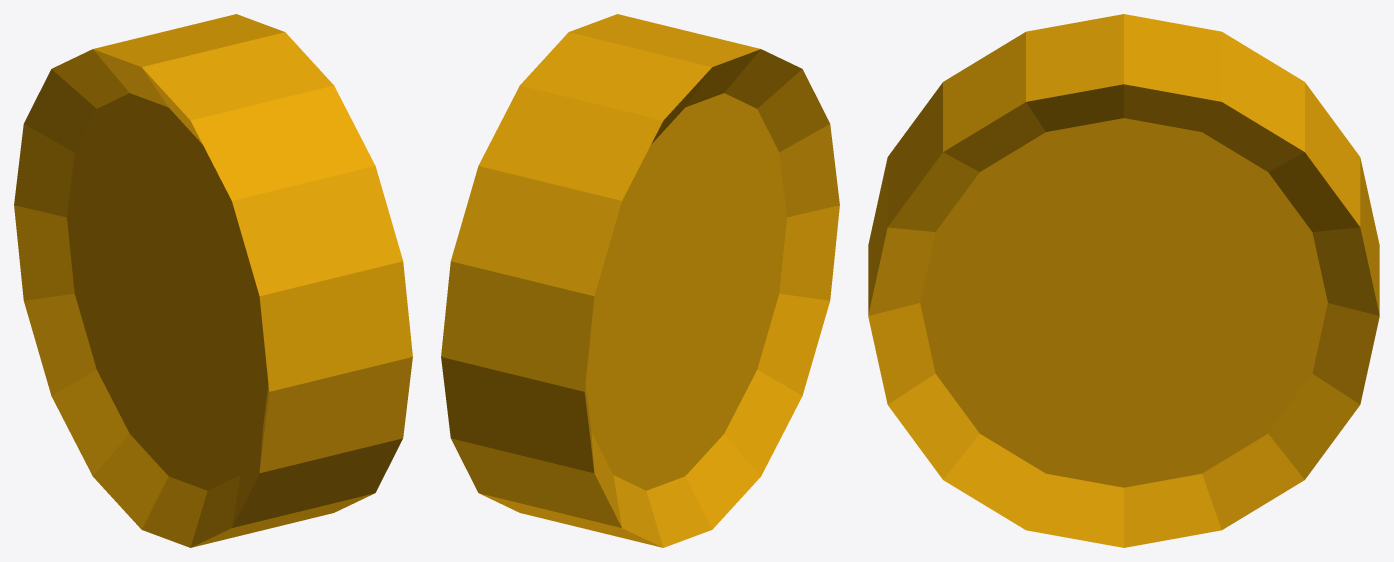
File: coin.gltf
3 renders of one model, left to right at view 1: azimuth 30°, elevation 25°; view 2: azimuth 150°, elevation 25°; view 3: azimuth 270°, elevation 25°, orthographic.
Visible parts, largest first — view 1: Circle; view 2: Circle; view 3: Circle.
Part boxes in pixels (x1=…): Circle: x1=14, y1=14, x2=412, y2=547; Circle: x1=441, y1=14, x2=839, y2=547; Circle: x1=868, y1=14, x2=1379, y2=547.
Size of the model in its own units: 0.65 by 2 by 2.
